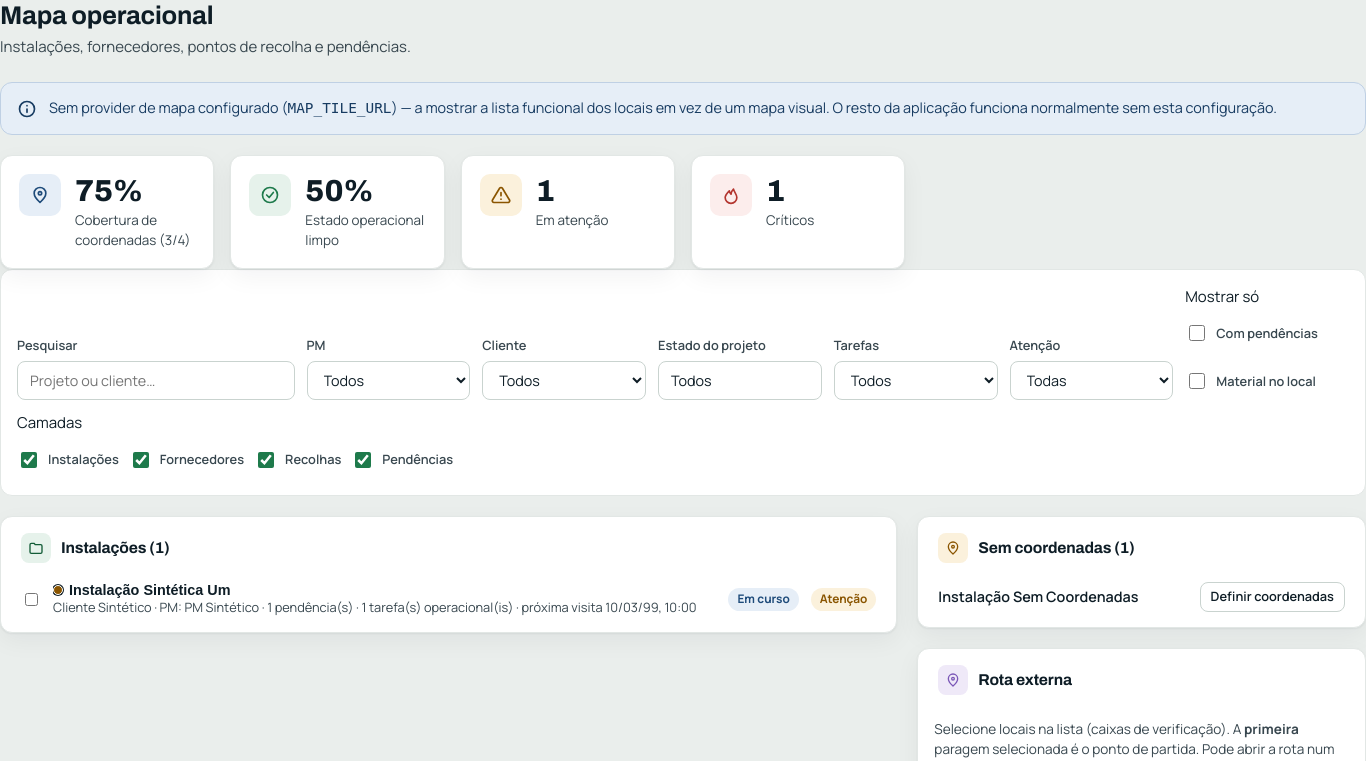
Mapa operacional › exige título para criar a tarefa
Click the button "Instalação Sintética Um". click: point(142, 590)
box: [53,582,231,598]
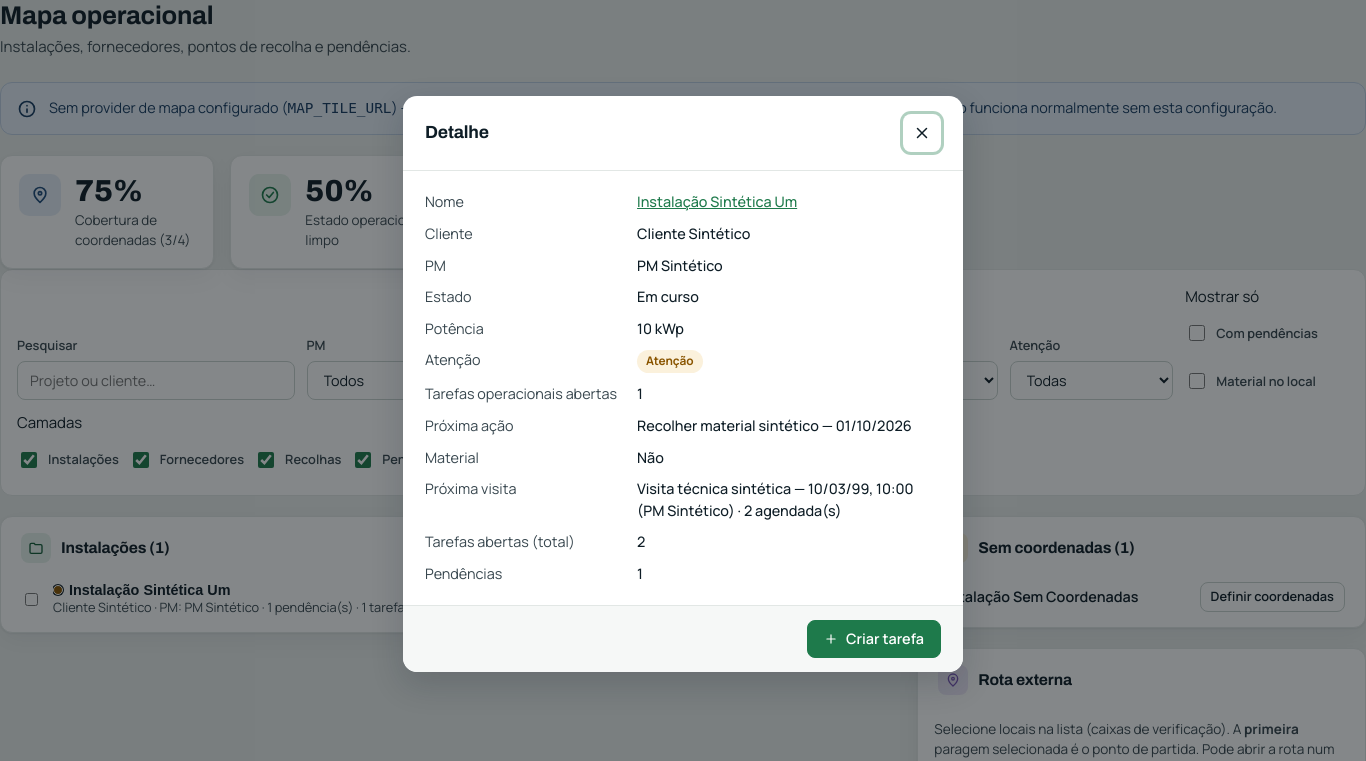
Click the button "Criar tarefa". click: point(874, 639)
box: [807,620,941,658]
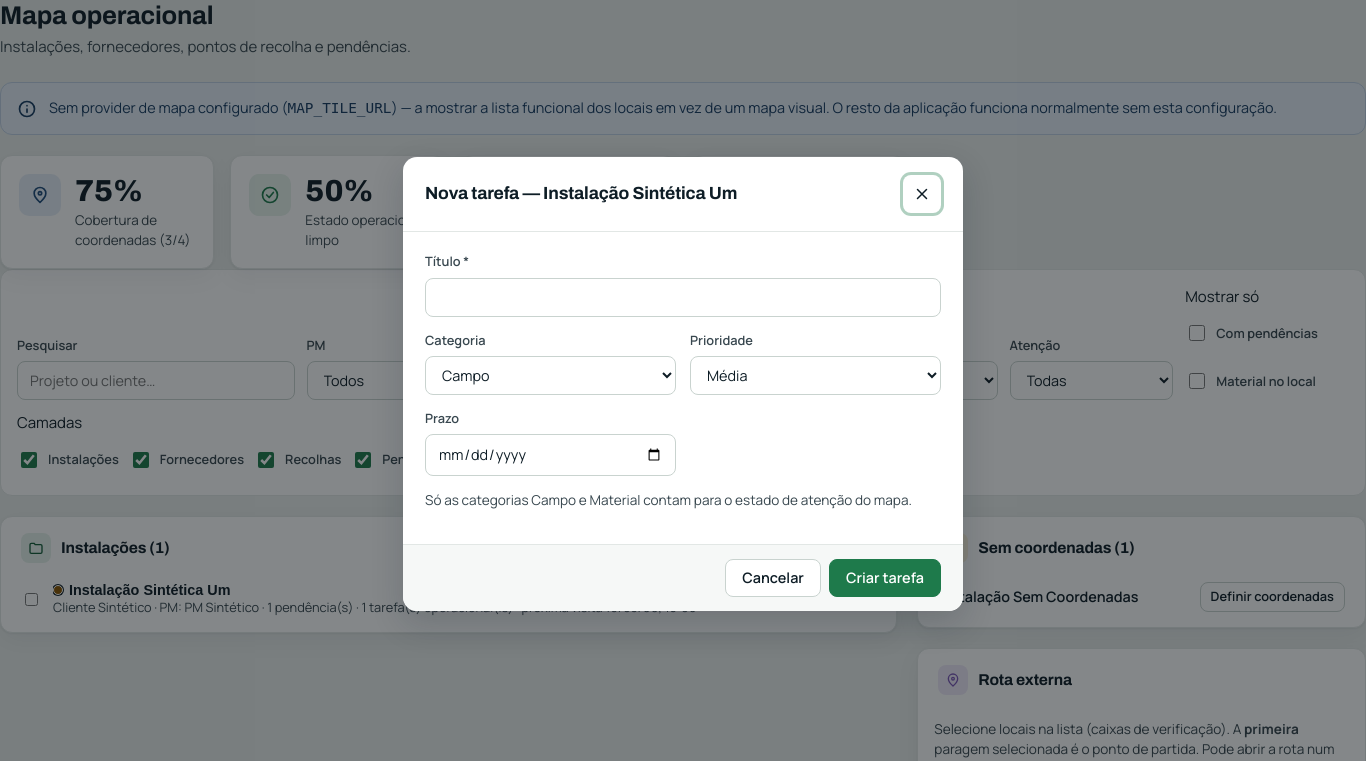
Click the button "Criar tarefa". click: point(885, 578)
box: [829,559,941,597]
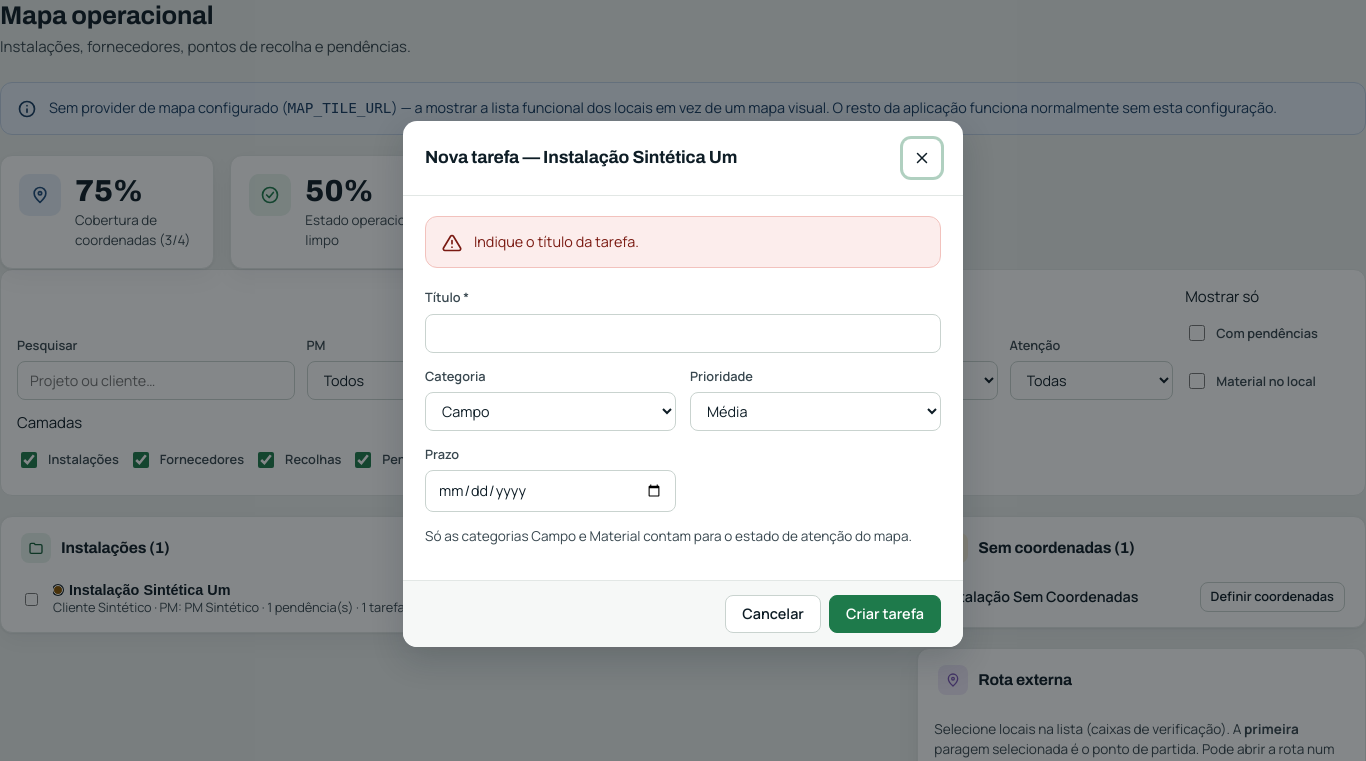
Expected: the text "Indique o título da tarefa." is shown, [474,232,639,251]
